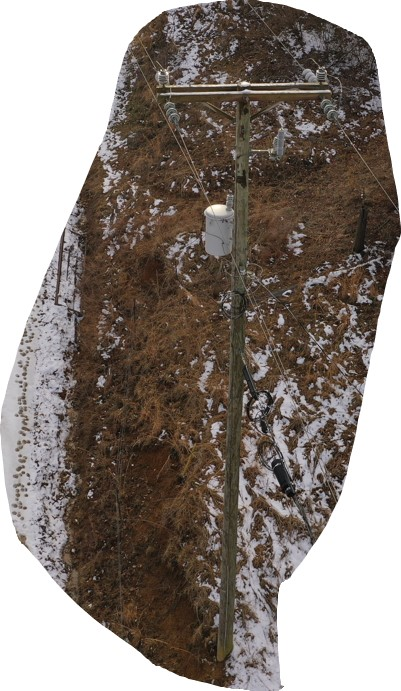pole: (142, 58, 337, 548)
